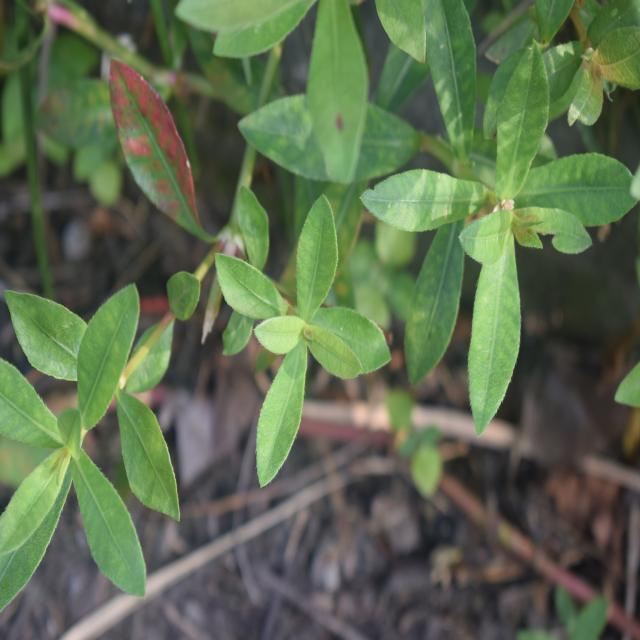Alligatorweed: (399, 56, 627, 422), (0, 282, 199, 616), (183, 184, 397, 466)
